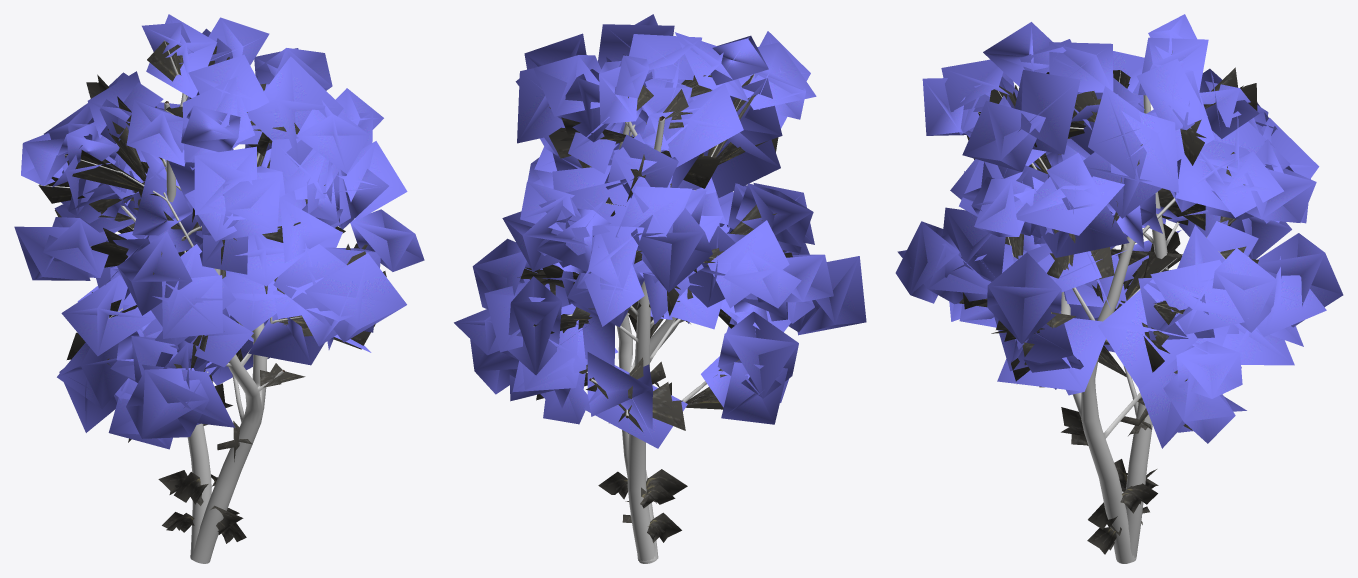
File: Birch_1.fbx
The picture shows the model from 3 angles, left to right: view 1: azimuth 30°, elevation 25°; view 2: azimuth 150°, elevation 25°; view 3: azimuth 270°, elevation 25°; orthographic projection.
Visible parts, largest first — view 1: Birch_1; view 2: Birch_1; view 3: Birch_1.
Part boxes in pixels (x1,y1,x2,y2): Birch_1: [14, 14, 424, 563]; Birch_1: [454, 14, 866, 563]; Birch_1: [895, 14, 1343, 563].
Size of the model in its own units: 18.15 by 27.38 by 20.92.
